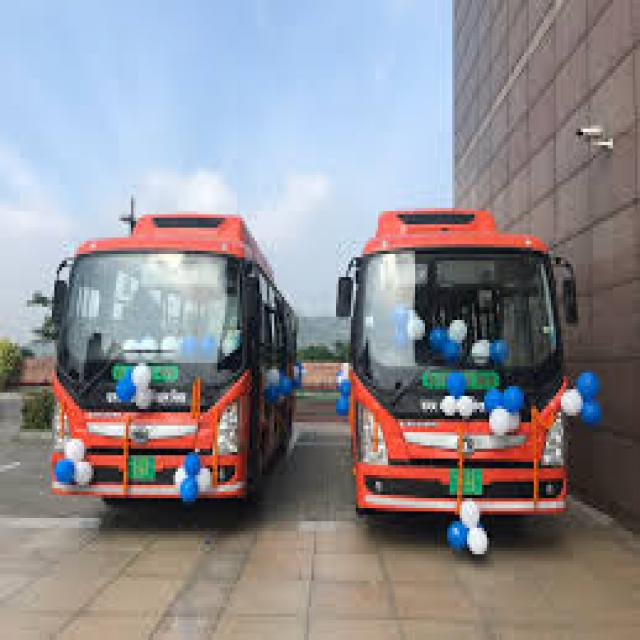Bus: (345, 250, 604, 574), (39, 224, 288, 504)
